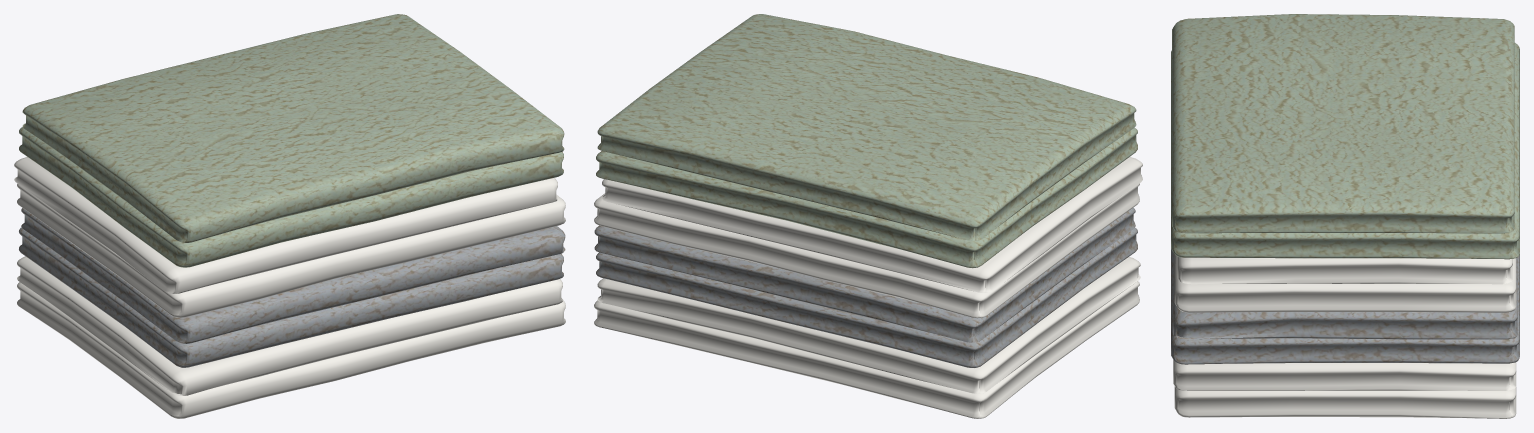
The model's file is towels.glb.
3 views of the same model, side by side, from view 1: azimuth 30°, elevation 25°; view 2: azimuth 150°, elevation 25°; view 3: azimuth 270°, elevation 25° (orthographic). The views are drawn at different scales.
Visible parts, largest first — view 1: towel_stack_soft; view 2: towel_stack_soft; view 3: towel_stack_soft.
Boxes of the visible parts, left/top/right/bottom form: towel_stack_soft: left=14, top=14, right=565, bottom=418; towel_stack_soft: left=594, top=14, right=1142, bottom=418; towel_stack_soft: left=1171, top=14, right=1519, bottom=418.
Bounding box in the file's own units: 0.3373 × 0.1668 × 0.246.
3 materials, 2 textured.
